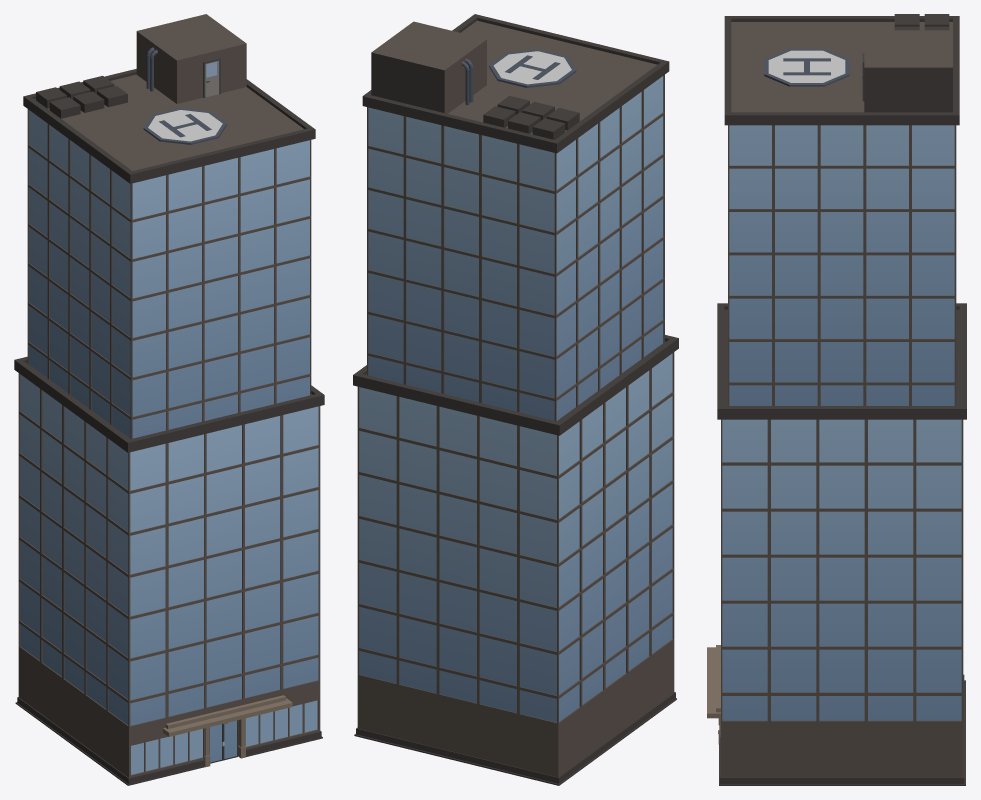
Rendered from House_02.glb.
3 renders of one model, left to right at view 1: azimuth 30°, elevation 25°; view 2: azimuth 150°, elevation 25°; view 3: azimuth 270°, elevation 25°, orthographic. The views are drawn at different scales.
Parts seen in each view (by area): view 1: House_02; view 2: House_02; view 3: House_02.
Part boxes in pixels (x1,y1,x2,y2): House_02: (14, 14, 324, 785); House_02: (353, 14, 678, 785); House_02: (707, 14, 966, 785).
Size of the model in its own units: 11.98 by 37.76 by 12.47.
1 material, 1 textured.
